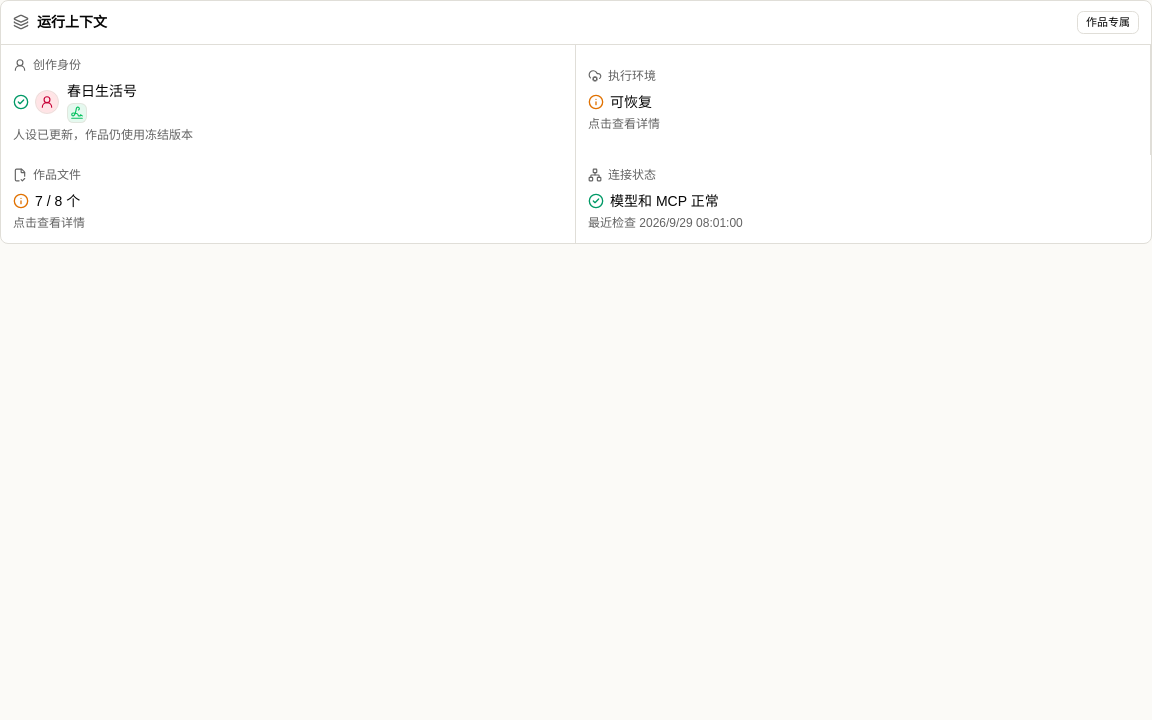
Test: TaskRuntimeContext › opens a detail sheet with safe technical identifiers only
Click the button with aria-label "执行环境详情" at point(632, 76), box [576,44,1151,154]
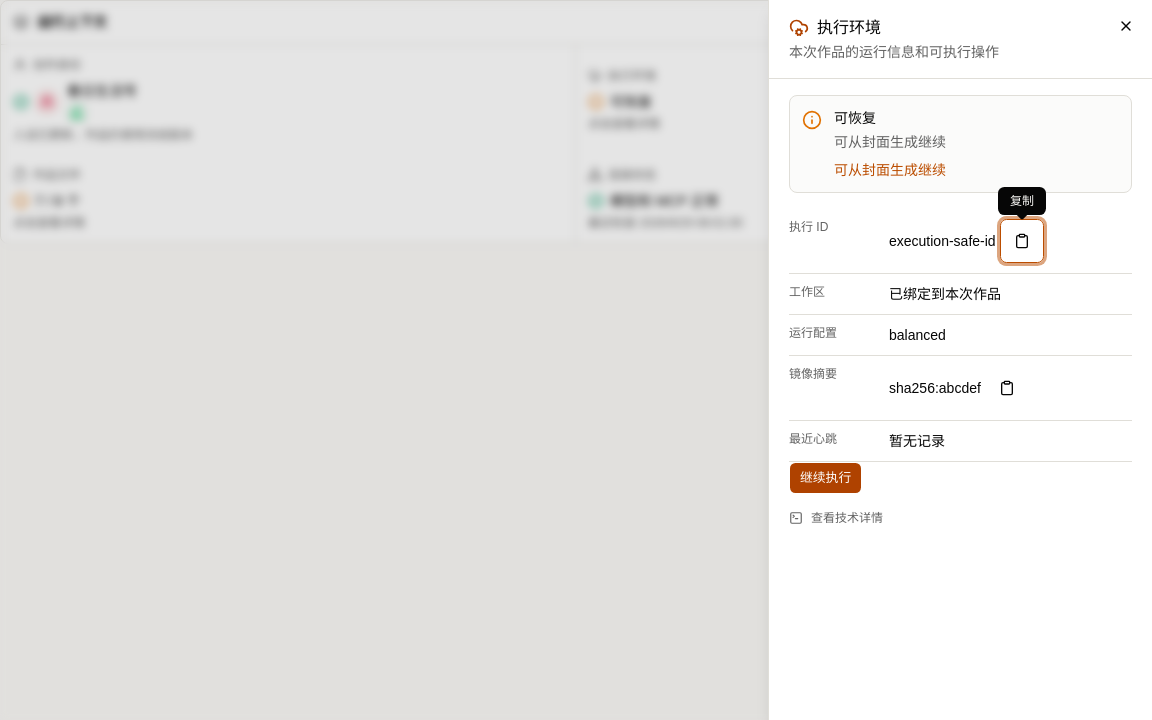
Now the heading "执行环境" is shown, box [789,18,881,38]
Now the text "execution-safe-id" is shown, box [889,231,996,251]
Now the text "balanced" is shown, box [889,325,946,345]
